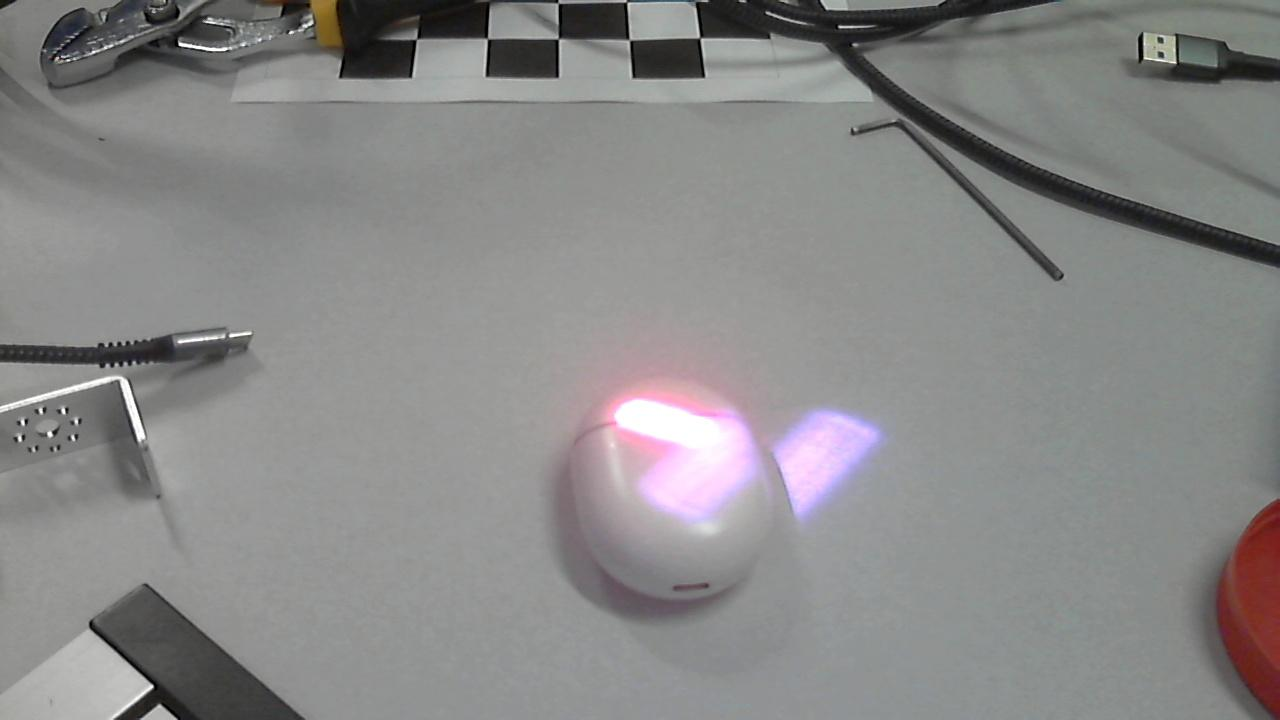Object wireless earbud charging case - Material plastic - Pdfname qzJIPQkli2jB: (522, 345, 797, 615)
